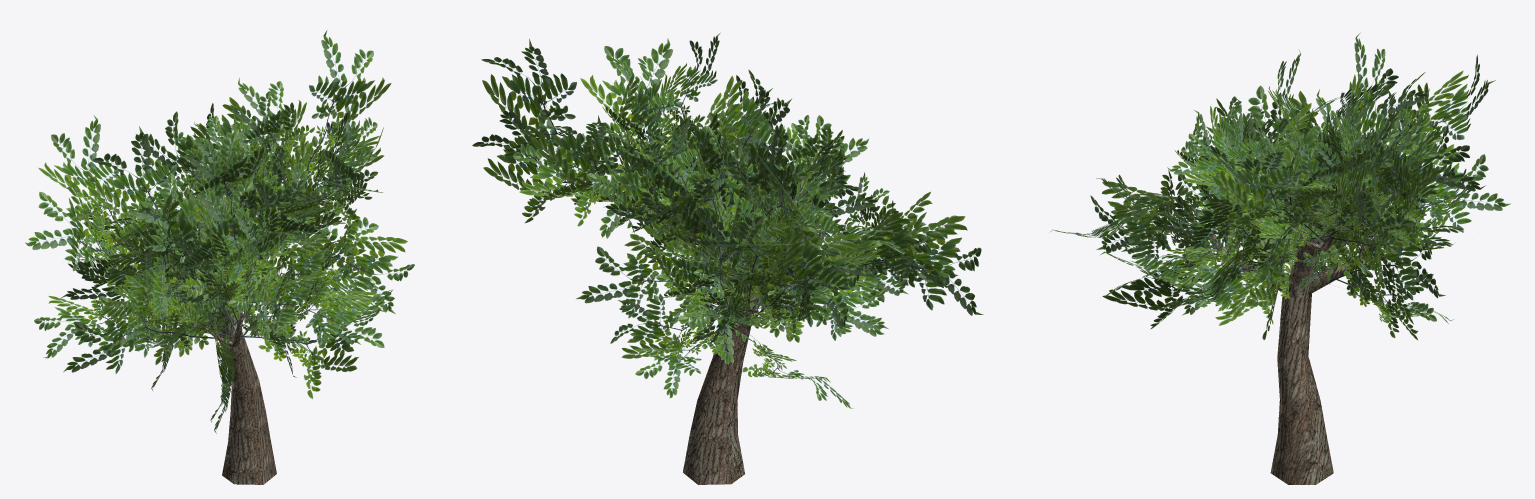
File: simple_low_poly_tree.glb
The picture shows the model from 3 angles, left to right: view 1: azimuth 30°, elevation 25°; view 2: azimuth 150°, elevation 25°; view 3: azimuth 270°, elevation 25°; orthographic projection. The views are drawn at different scales.
Parts seen in each view (by area): view 1: Tree (HQ); view 2: Tree (HQ); view 3: Tree (HQ).
Part boxes in pixels (x1,y1,x2,y2): Tree (HQ): (25, 30, 414, 484); Tree (HQ): (472, 32, 983, 484); Tree (HQ): (1049, 33, 1510, 484).
Bounding box in the file's own units: 29.25 × 26.49 × 25.98.
2 materials, 2 textured.
